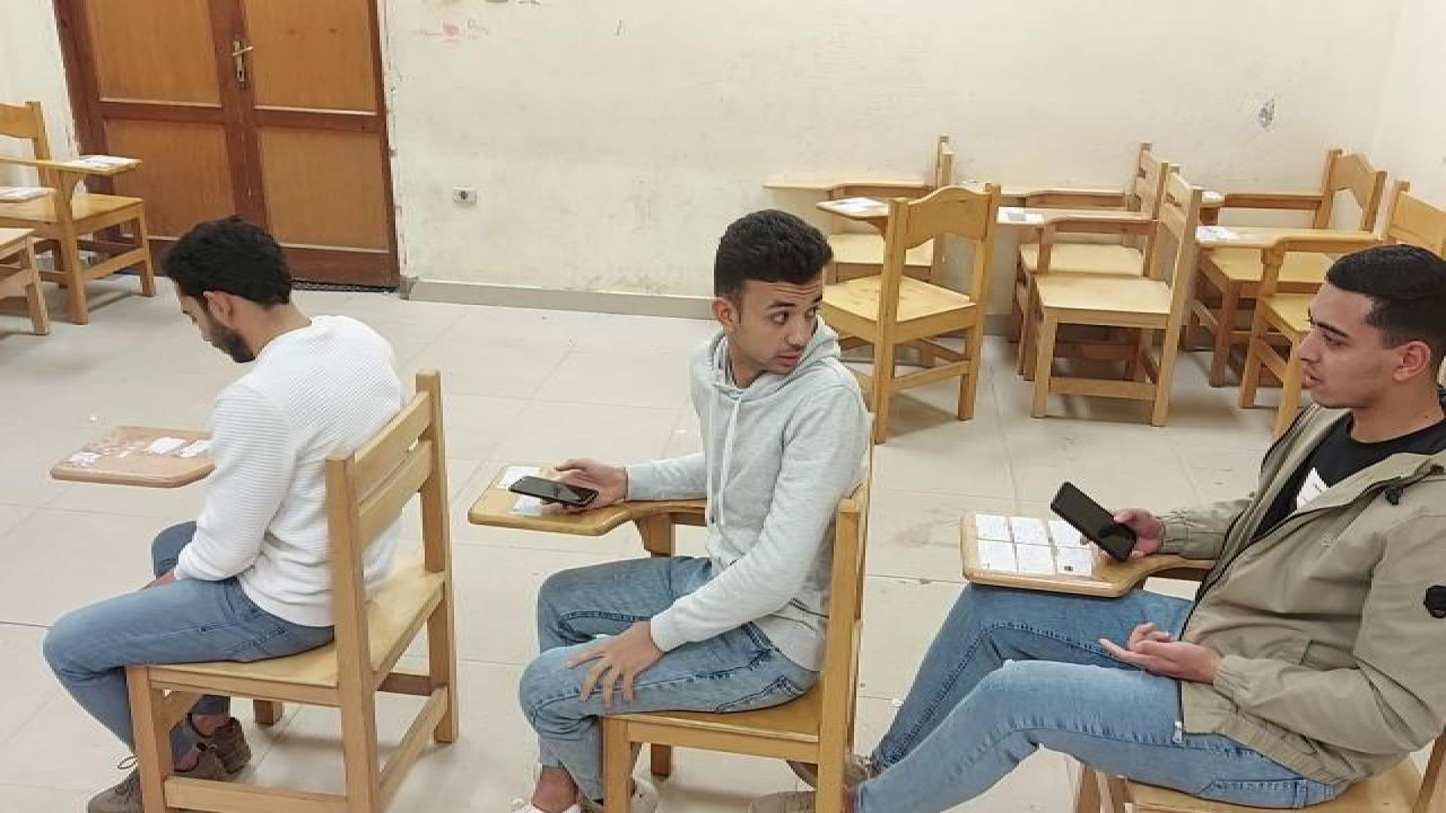phone: (1052, 481, 1138, 557), (513, 476, 599, 505)
